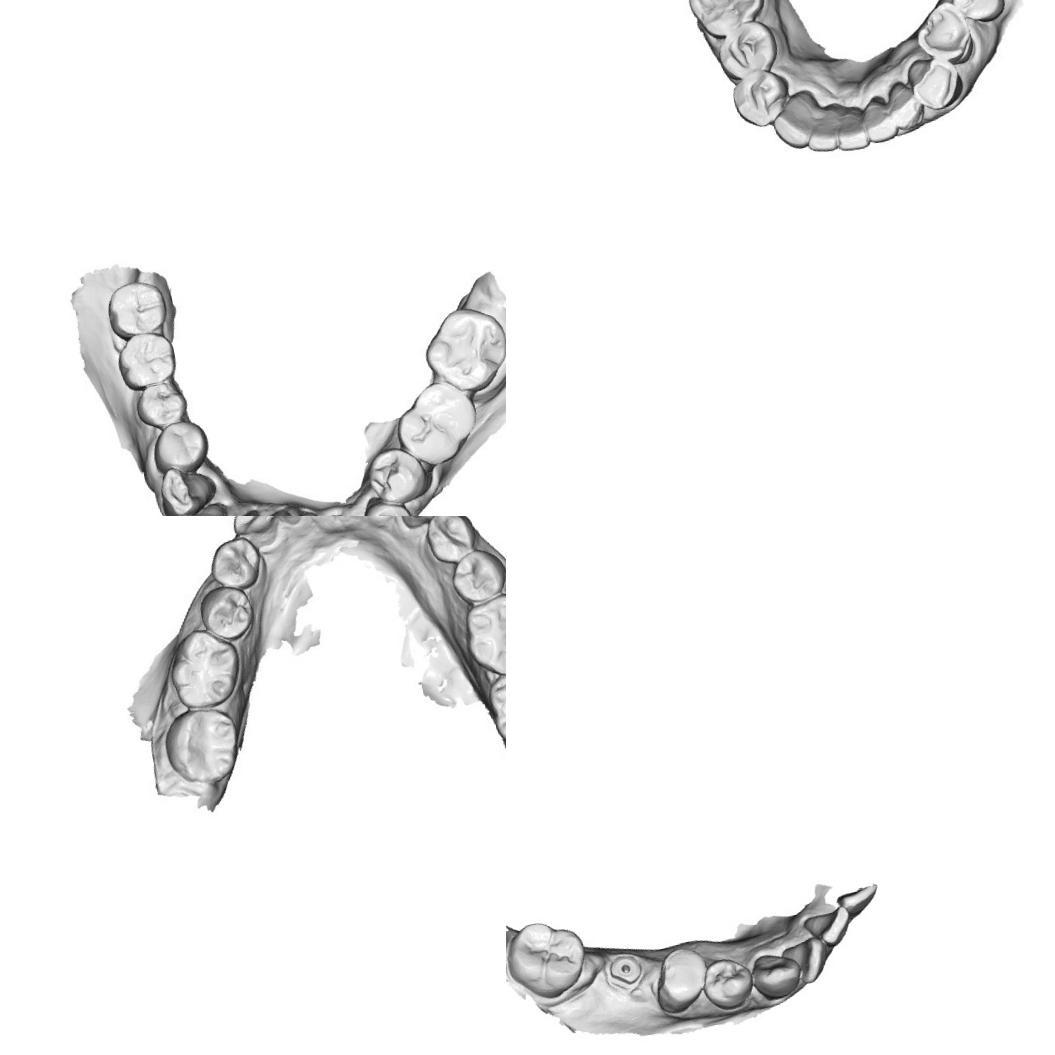canine: (152, 459, 219, 516), (906, 51, 966, 114), (746, 947, 806, 1003), (767, 94, 822, 154), (230, 516, 282, 548)
implant: (603, 949, 646, 992)
incisor: (780, 934, 832, 988), (800, 903, 854, 951), (884, 80, 926, 132), (829, 105, 873, 154), (800, 107, 844, 155), (861, 96, 901, 147), (832, 881, 882, 920), (167, 501, 228, 516), (254, 504, 301, 516), (262, 516, 301, 525)
molar: (413, 299, 506, 401), (389, 373, 483, 470), (506, 911, 592, 1006), (158, 705, 244, 789), (162, 628, 244, 709), (100, 274, 176, 342), (109, 325, 184, 393), (681, 0, 768, 41), (465, 594, 506, 681), (487, 666, 506, 752)
premolar: (648, 942, 714, 1017), (910, 0, 978, 70), (726, 64, 794, 134), (712, 16, 782, 83), (360, 442, 426, 510), (146, 418, 216, 478), (697, 953, 757, 1014), (131, 379, 195, 434), (198, 586, 259, 640), (449, 547, 506, 604), (210, 532, 262, 590), (421, 516, 475, 563), (945, 0, 1008, 28), (354, 492, 418, 516)
